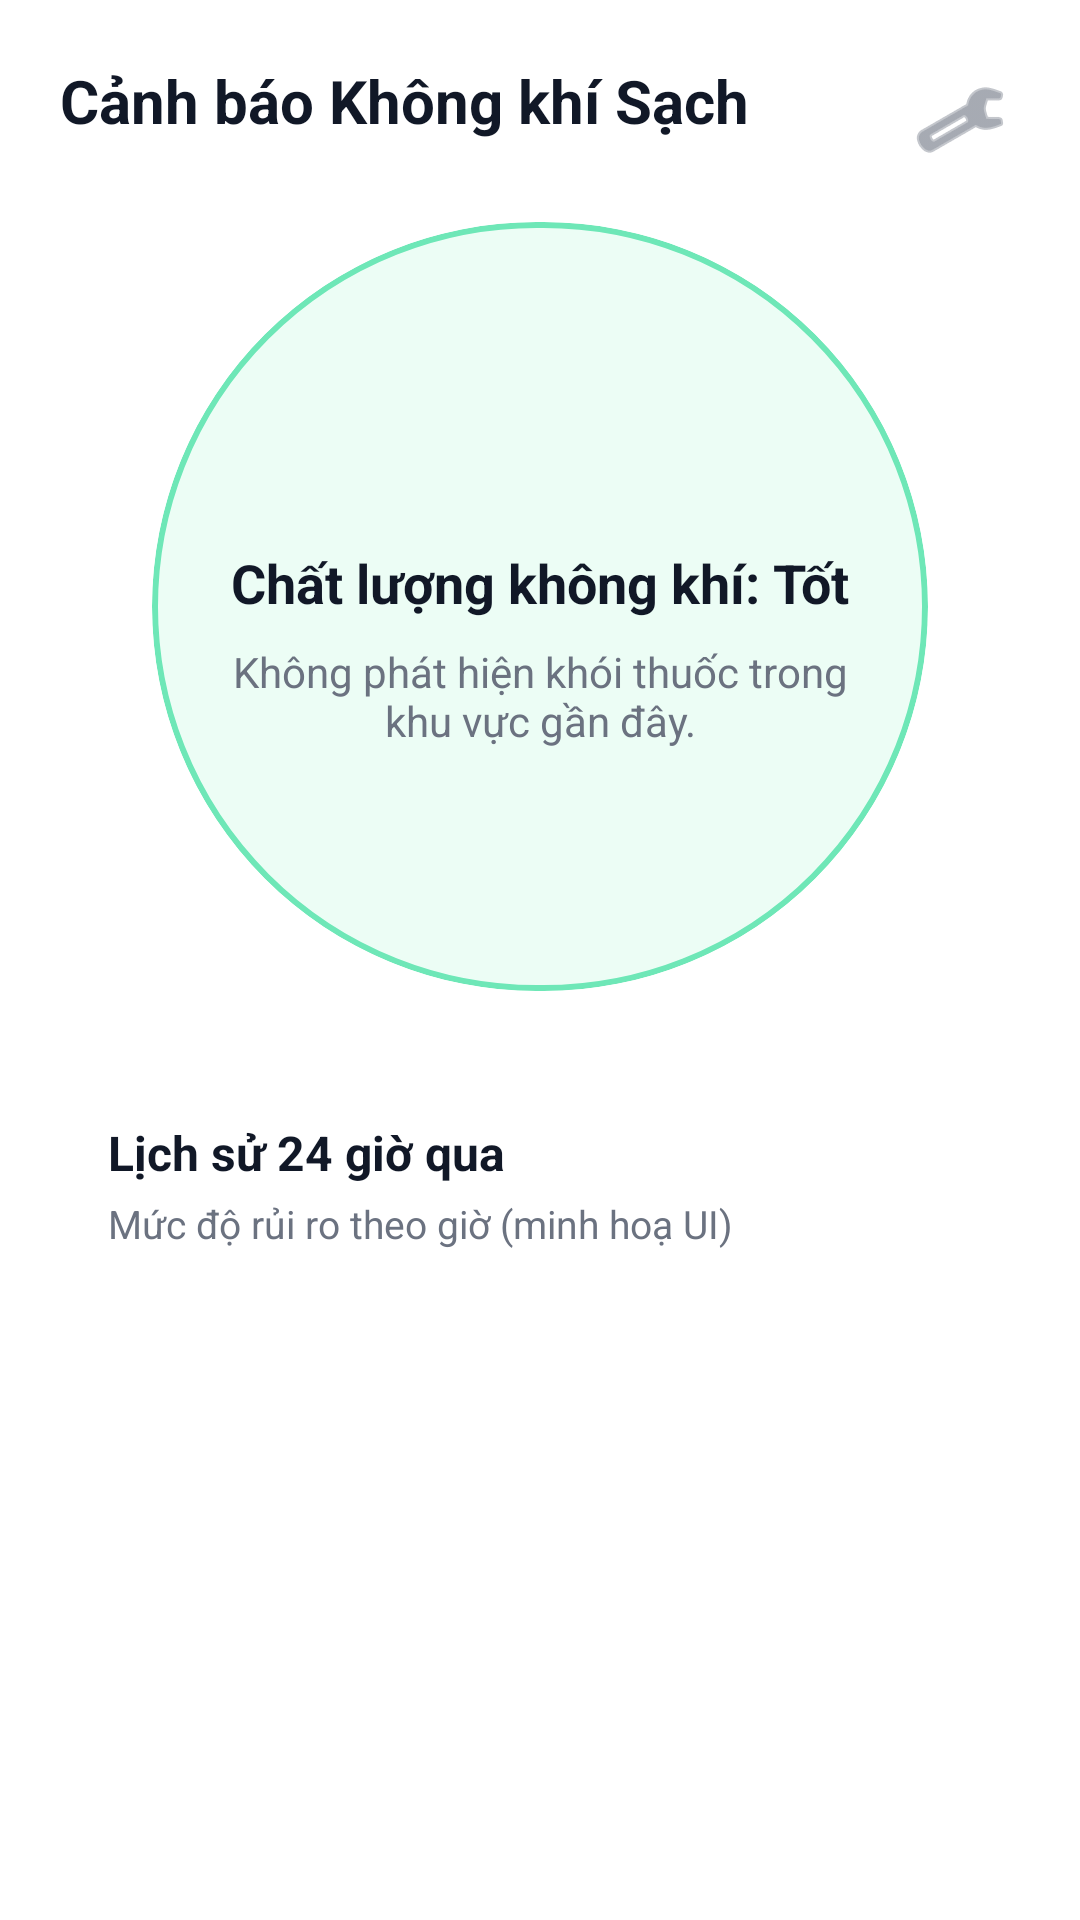

Icon click points for this 1080 × 1920 phone screenshot, format (x,y):
Settings: (960,120)
